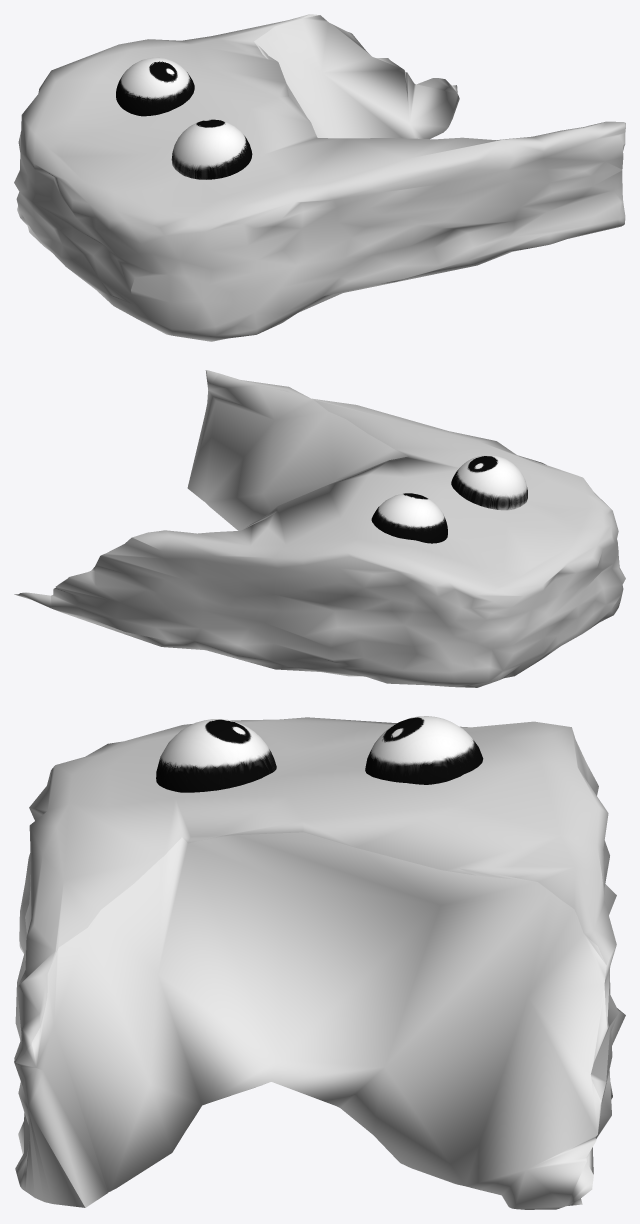
Rendered from Nugget_zerstört.fbx.
3 views of the same model, one above another, from view 1: azimuth 30°, elevation 25°; view 2: azimuth 150°, elevation 25°; view 3: azimuth 270°, elevation 25° (orthographic). The views are drawn at different scales.
Visible parts, largest first — view 1: Cube.001, Sphere.006, Sphere.005; view 2: Cube.001, Sphere.006, Sphere.005; view 3: Cube.001, Sphere.006, Sphere.005.
Part boxes in pixels (x1,y1,x2,y2): Cube.001: [14, 14, 625, 341]; Sphere.006: [171, 119, 252, 179]; Sphere.005: [116, 57, 194, 116]; Cube.001: [14, 370, 625, 687]; Sphere.006: [451, 455, 527, 510]; Sphere.005: [371, 493, 447, 543]; Cube.001: [14, 717, 625, 1209]; Sphere.006: [156, 719, 276, 792]; Sphere.005: [365, 716, 483, 784].
Size of the model in its own units: 297 by 102 by 212.
